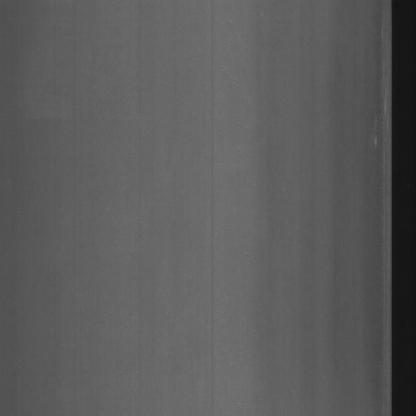silk_spot: (366, 29, 389, 183)
